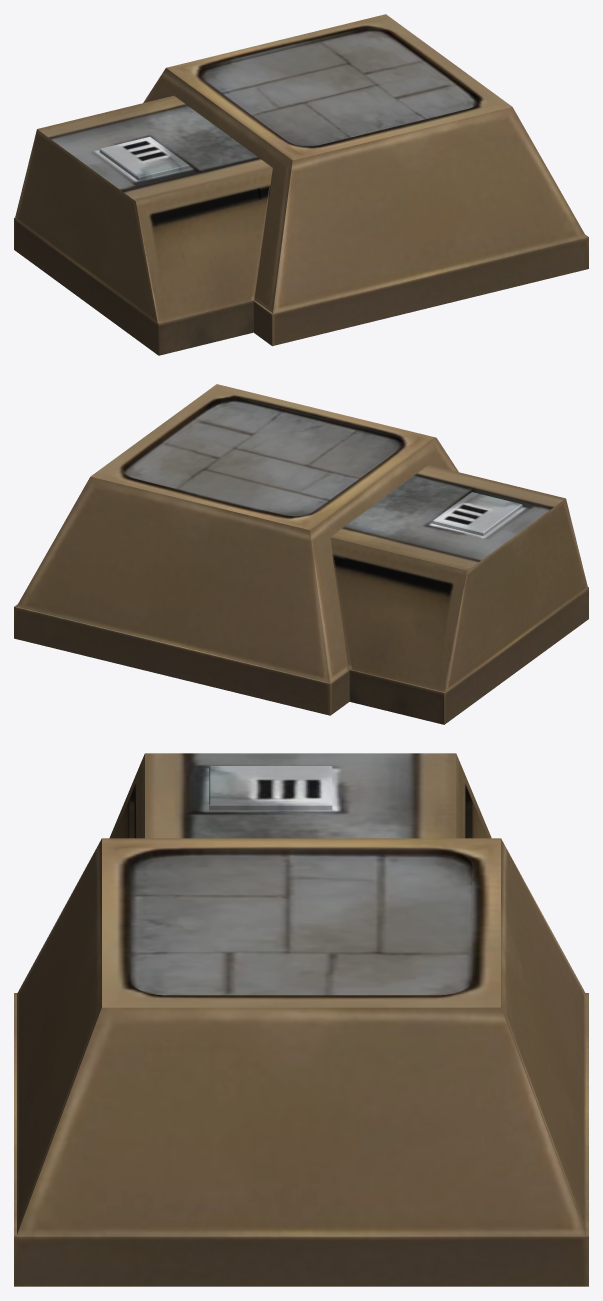
File: hpg_end_cad.glb
3 views of the same model, one above another, from view 1: azimuth 30°, elevation 25°; view 2: azimuth 150°, elevation 25°; view 3: azimuth 270°, elevation 25° (orthographic). The views are drawn at different scales.
Visible parts, largest first — view 1: End; view 2: End; view 3: End.
Part boxes in pixels (x1,y1,x2,y2): End: [14, 14, 588, 355]; End: [14, 384, 588, 724]; End: [14, 753, 588, 1286].
Size of the model in its own units: 20.88 by 7.44 by 16.03.
Materials: 1 (1 with a texture image).
